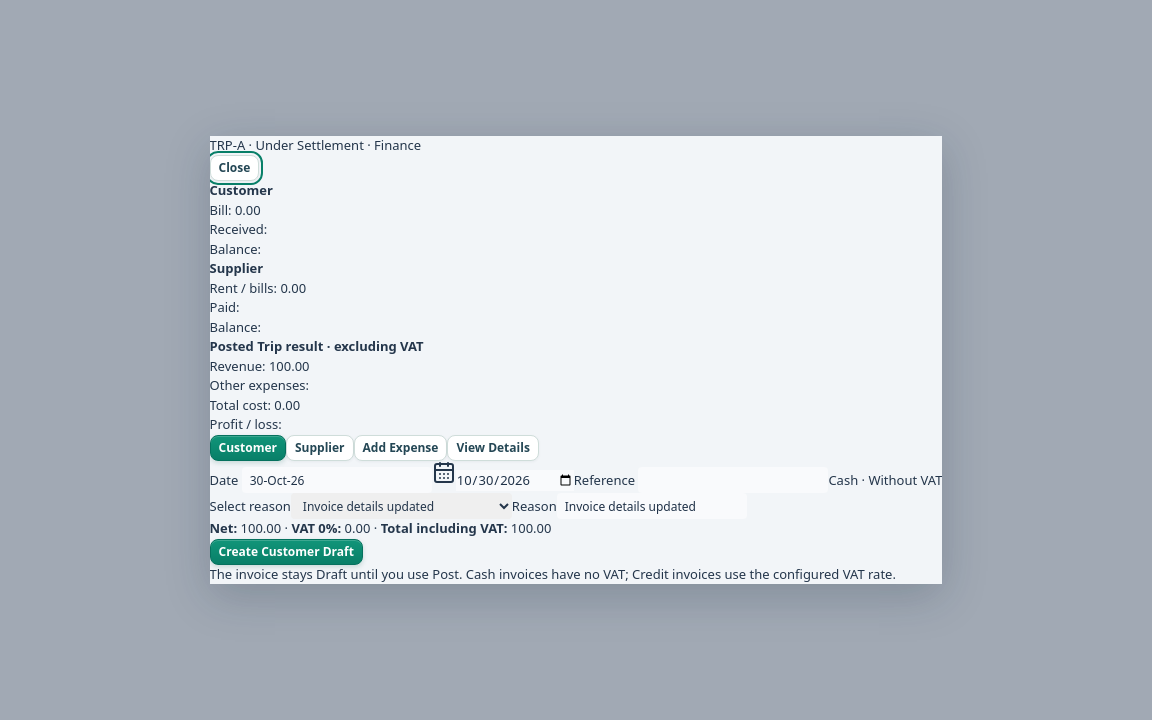
Test: Transport canonical finance controls › opens the customer Draft invoice flow and does not post or create a receipt automatically
Expected: the text "Cash invoices have no VAT; Credit invoices use the configured VAT rate" is shown, [210,565,896,583]
What coordinates should you click on to do the following:
click the button "Create Customer Draft"
I would click on:
 (286, 552)
Its box is [210,539,363,565].
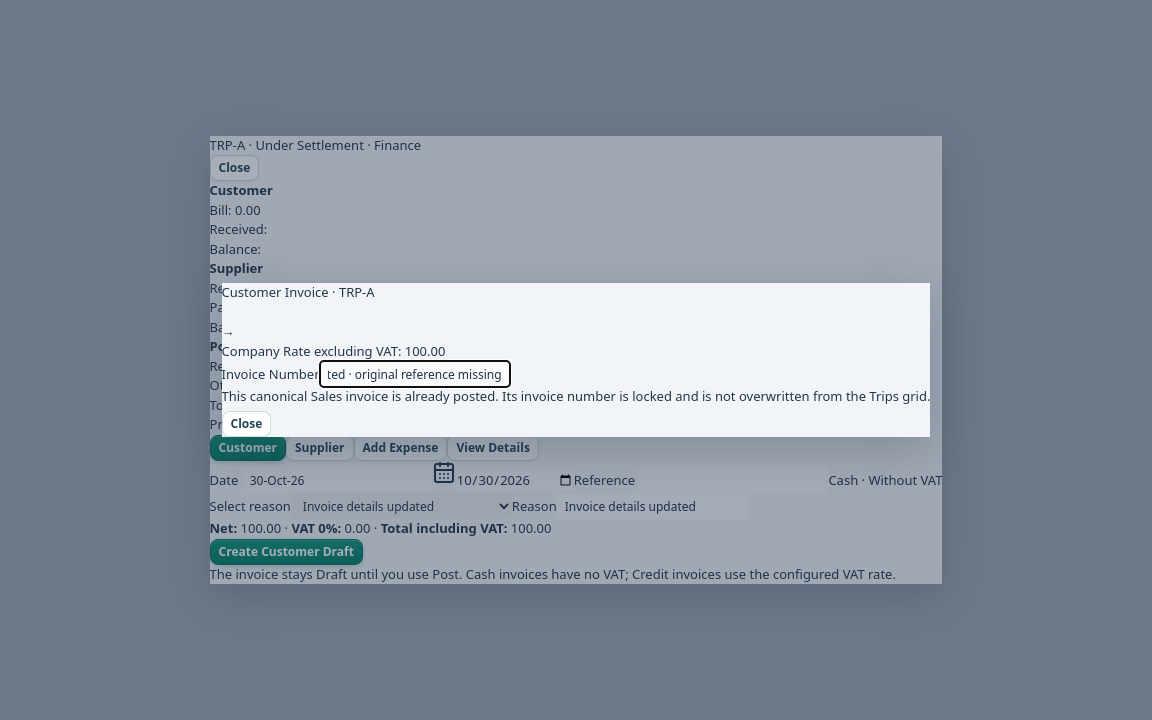
Expected: the heading "Customer Invoice · TRP-A" is shown, [222,283,930,303]
